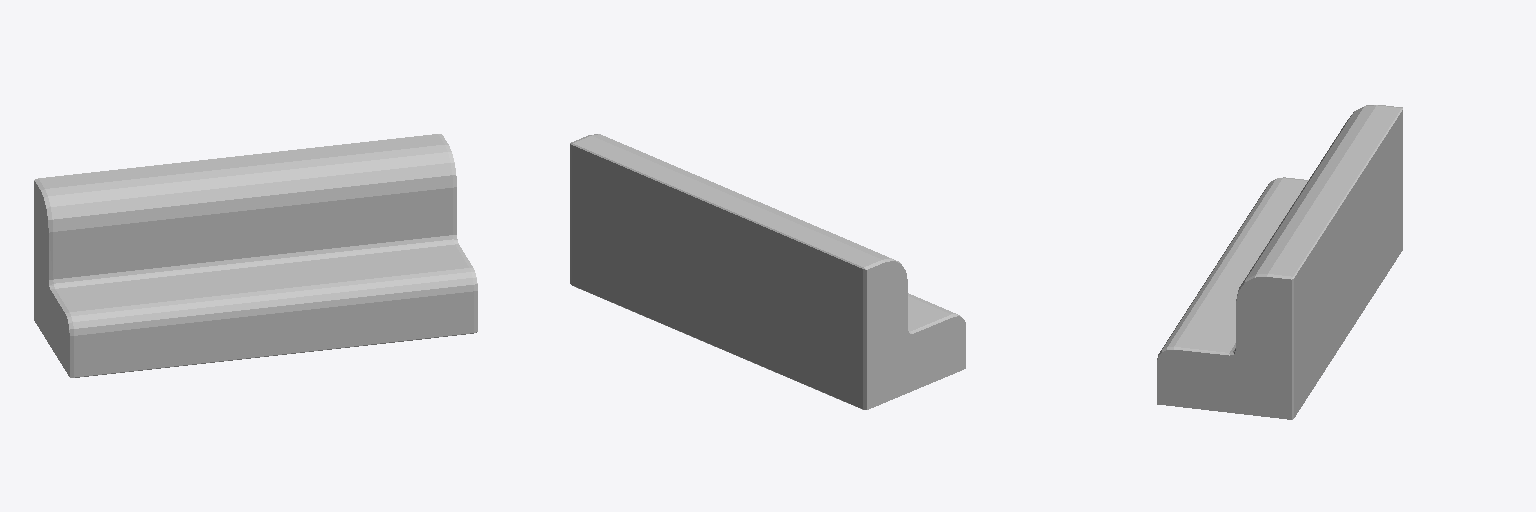
The model's file is seat_18.obj.
3 views of the same model, side by side, from view 1: azimuth 30°, elevation 25°; view 2: azimuth 150°, elevation 25°; view 3: azimuth 270°, elevation 25° (orthographic).
Parts seen in each view (by area): view 1: Cadeira1.017_Cube.017; view 2: Cadeira1.017_Cube.017; view 3: Cadeira1.017_Cube.017.
Part boxes in pixels (x1,y1,x2,y2): Cadeira1.017_Cube.017: (34, 134, 477, 377); Cadeira1.017_Cube.017: (570, 134, 965, 409); Cadeira1.017_Cube.017: (1157, 105, 1402, 419).
Size of the model in its own units: 3.4 by 1.2 by 1.88.